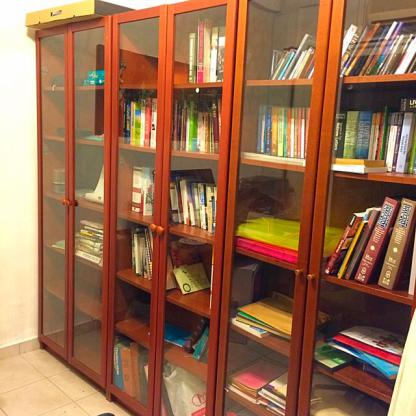lamp: (210, 0, 415, 415), (105, 0, 242, 415), (35, 0, 116, 398)
